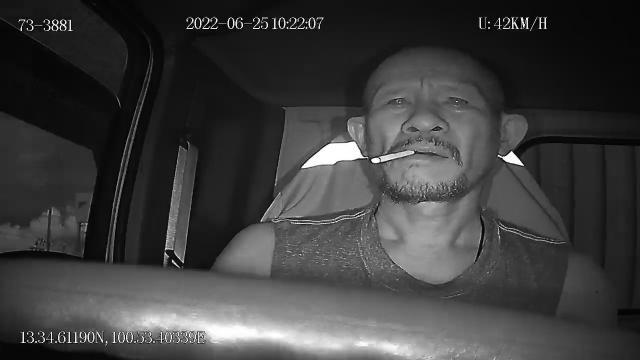SafeDriving: (377, 86, 419, 117), (436, 86, 478, 116)
Smoking: (372, 150, 413, 164)
